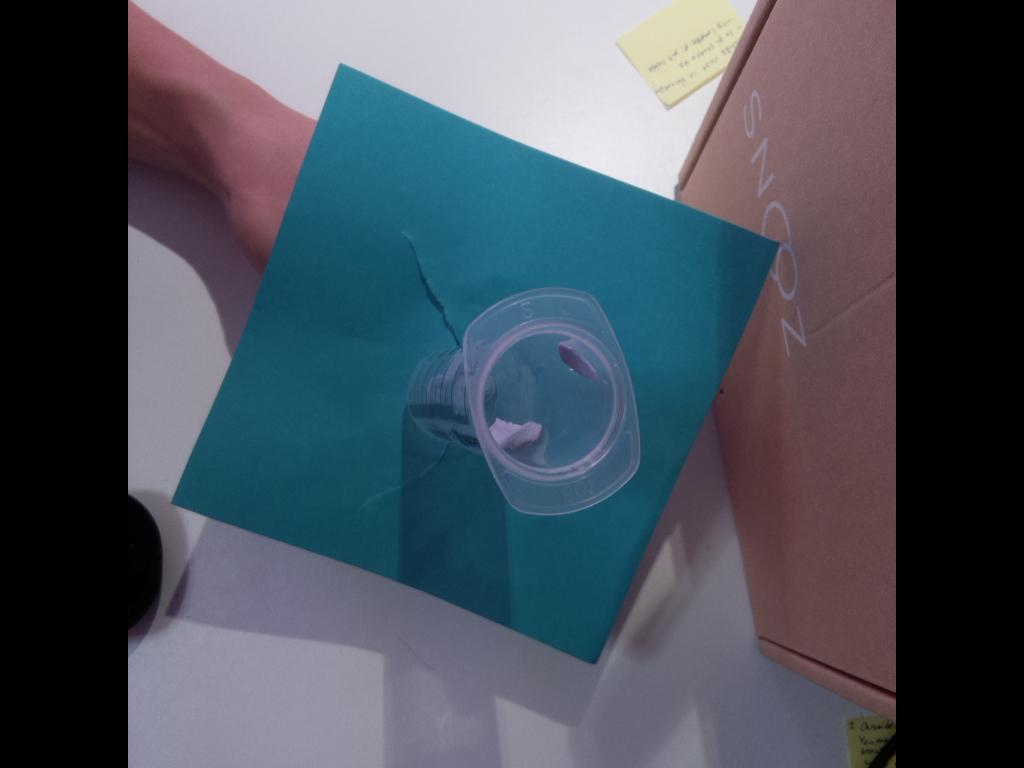dirty: (463, 285, 642, 515)
